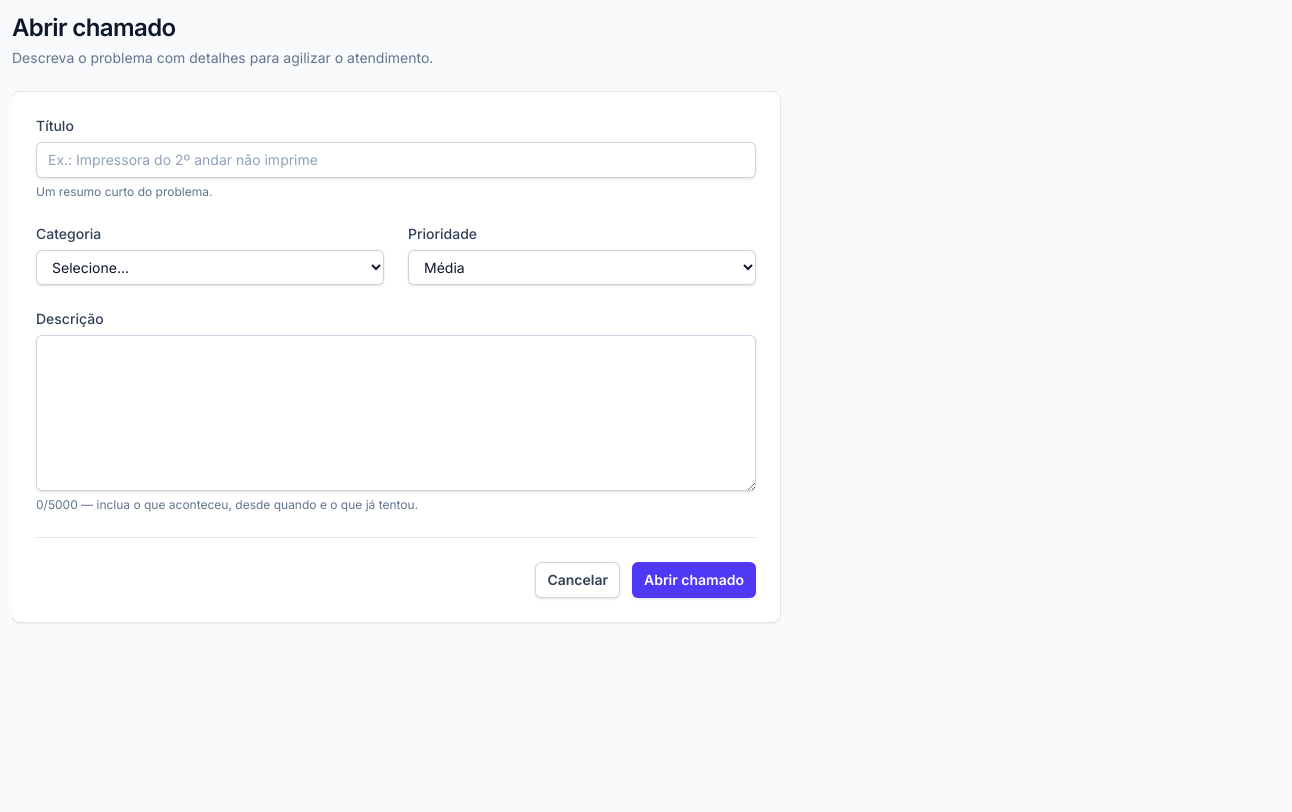
Test: NewTicketPage › mostra no campo certo o erro de validação devolvido pelo backend
In the field labelled "Título": (396,160) [36,142,756,178], type "Monitor piscando"
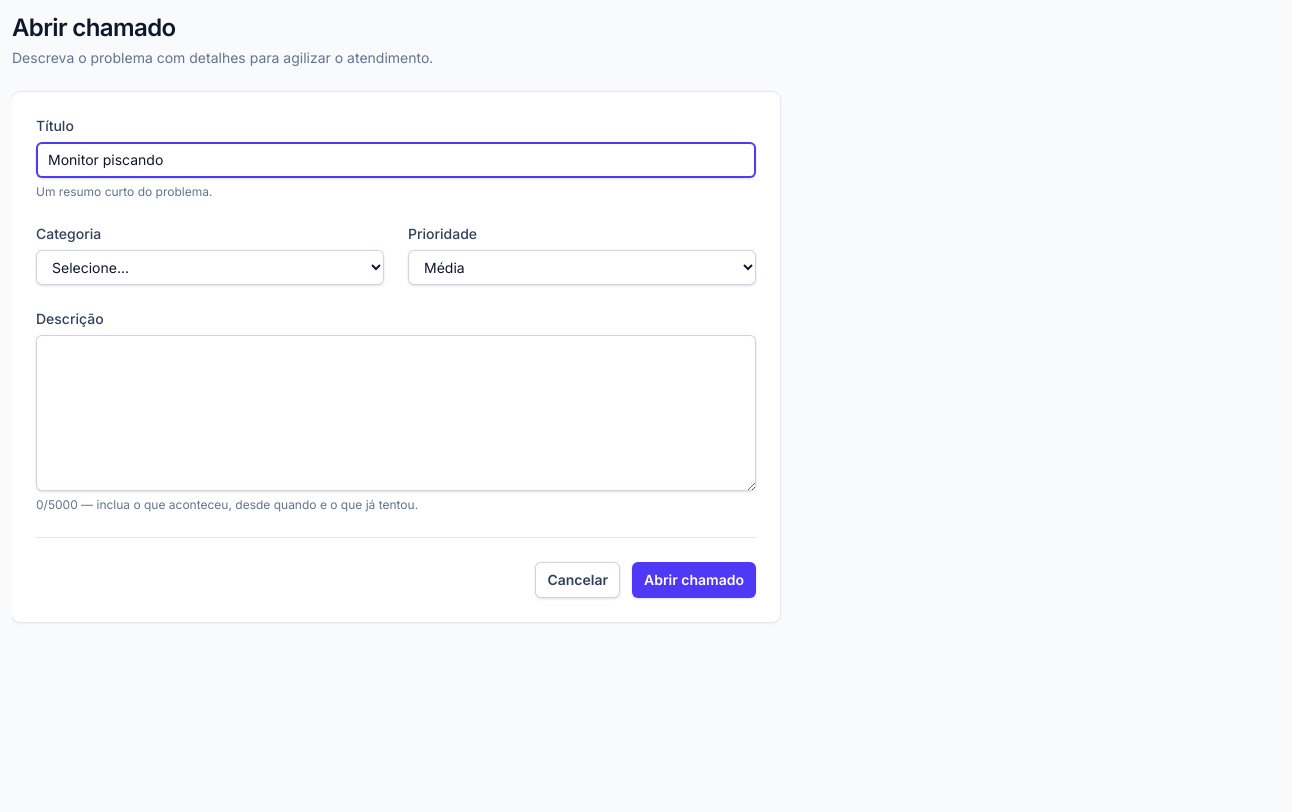
Select "Rede" in the dropdown labelled "Categoria": (210,268) [36,250,384,285]
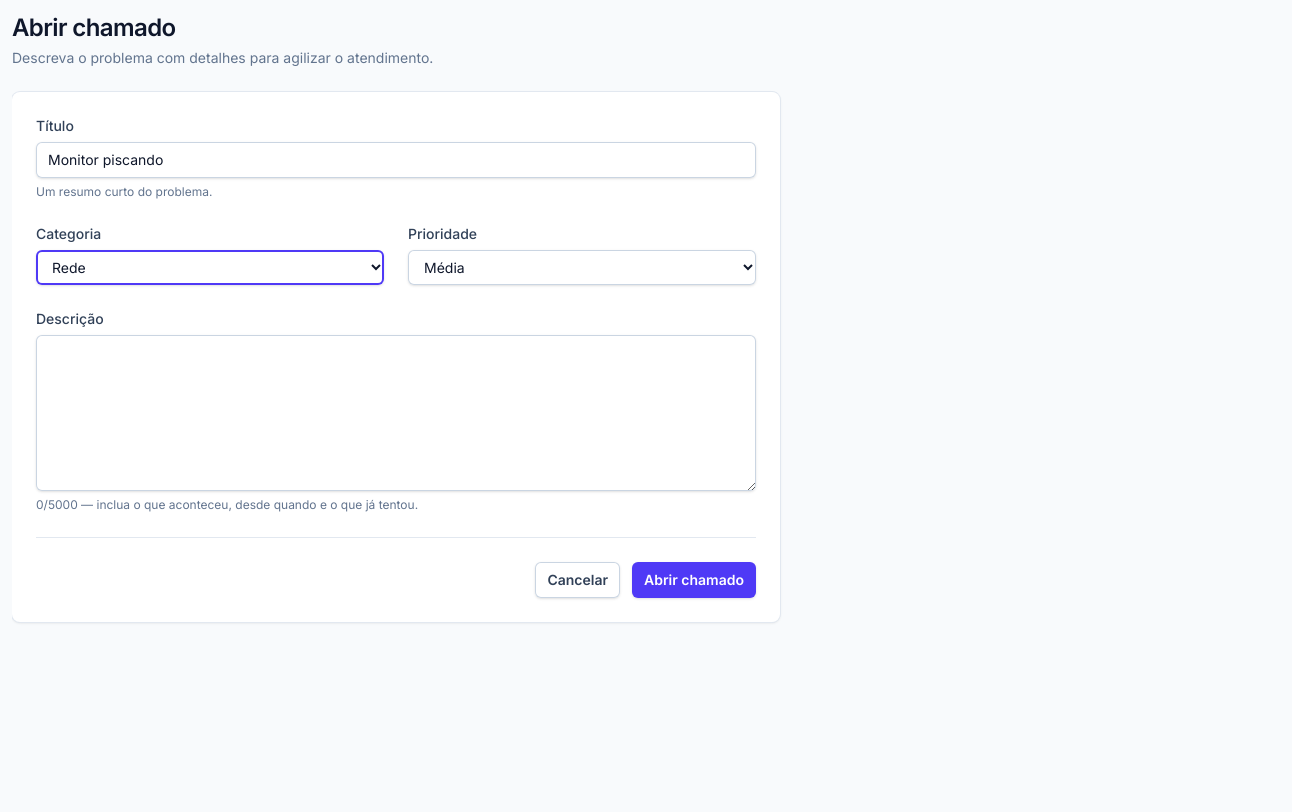
Select "Alta" in the dropdown labelled "Prioridade": (582,268) [408,250,756,285]
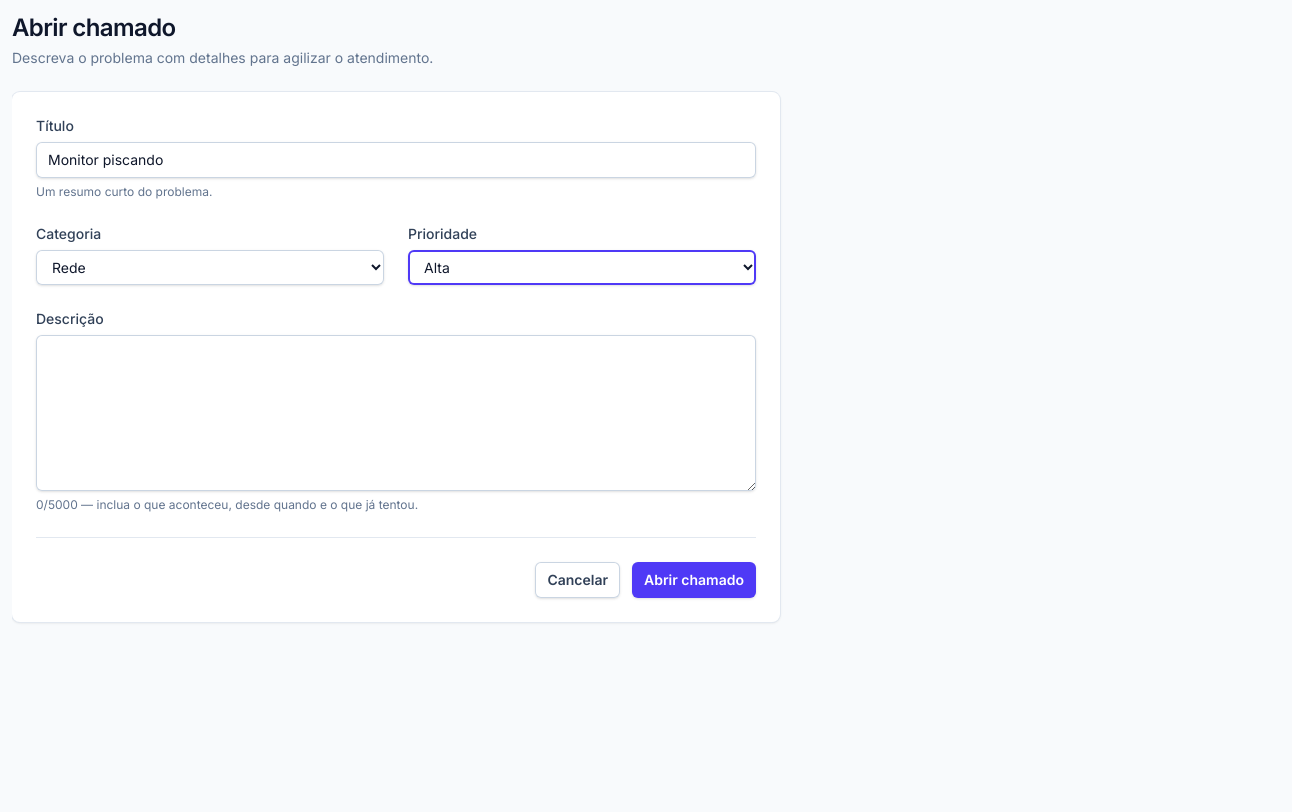
In the text box labelled "Descrição": (396,413) [36,335,756,491], type "O monitor pisca a cada minuto."
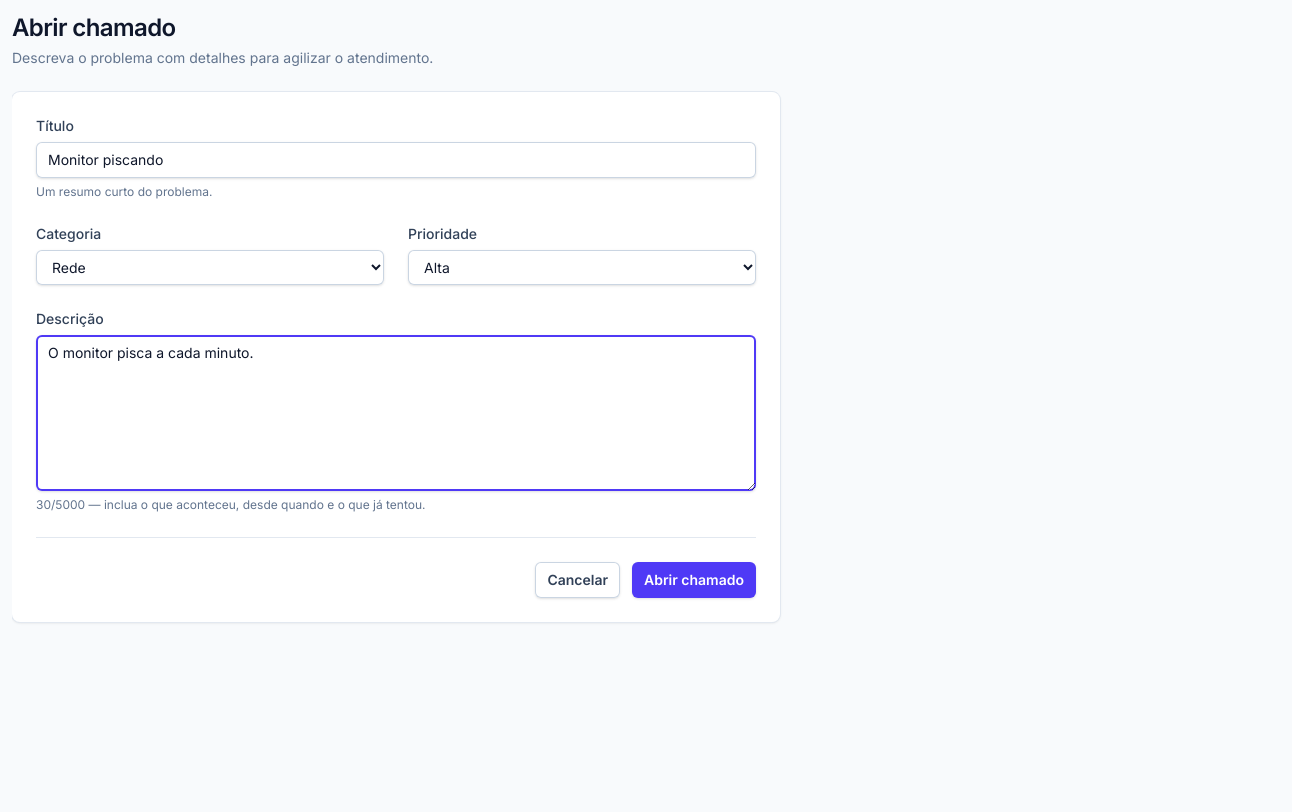
Click the button "Abrir chamado": (694,580) [632,562,756,598]
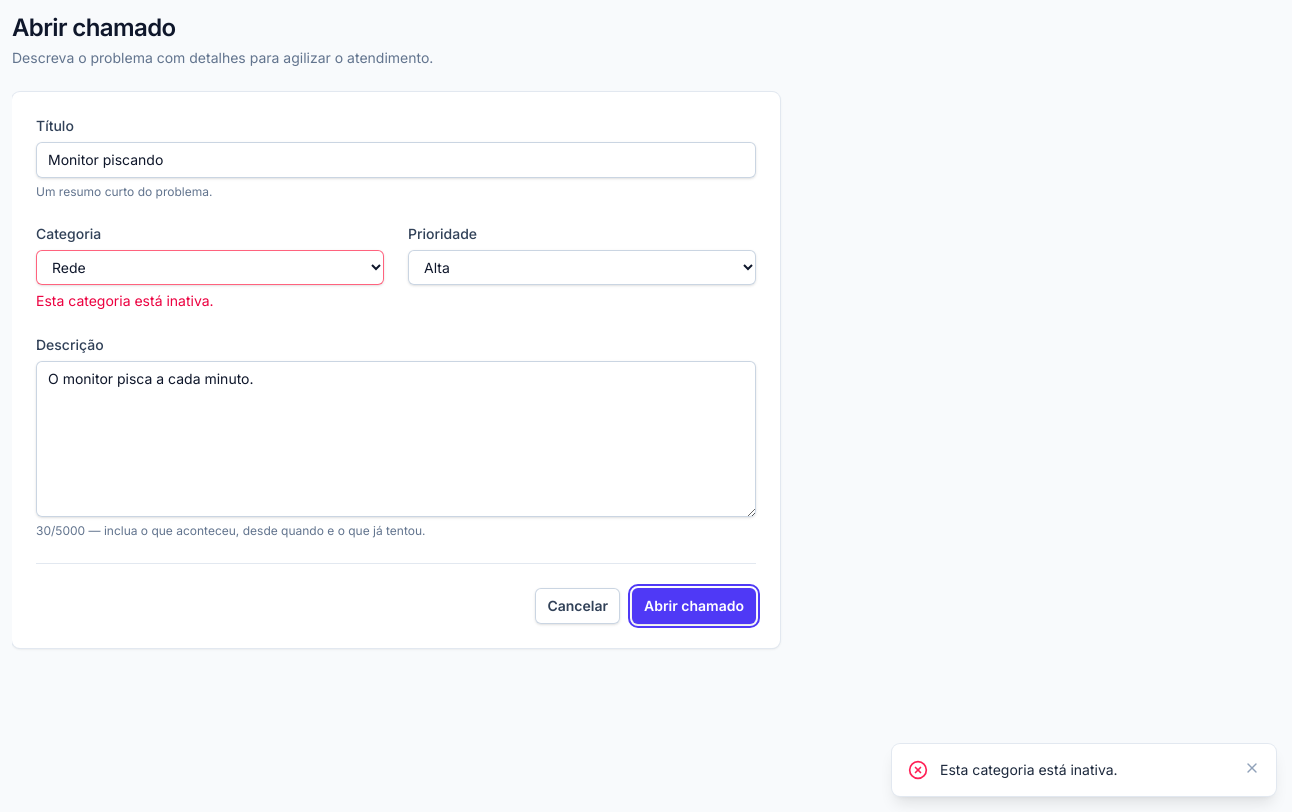
Now the text "Esta categoria está inativa." below "Prioridade" is shown, box [36,292,214,309]
